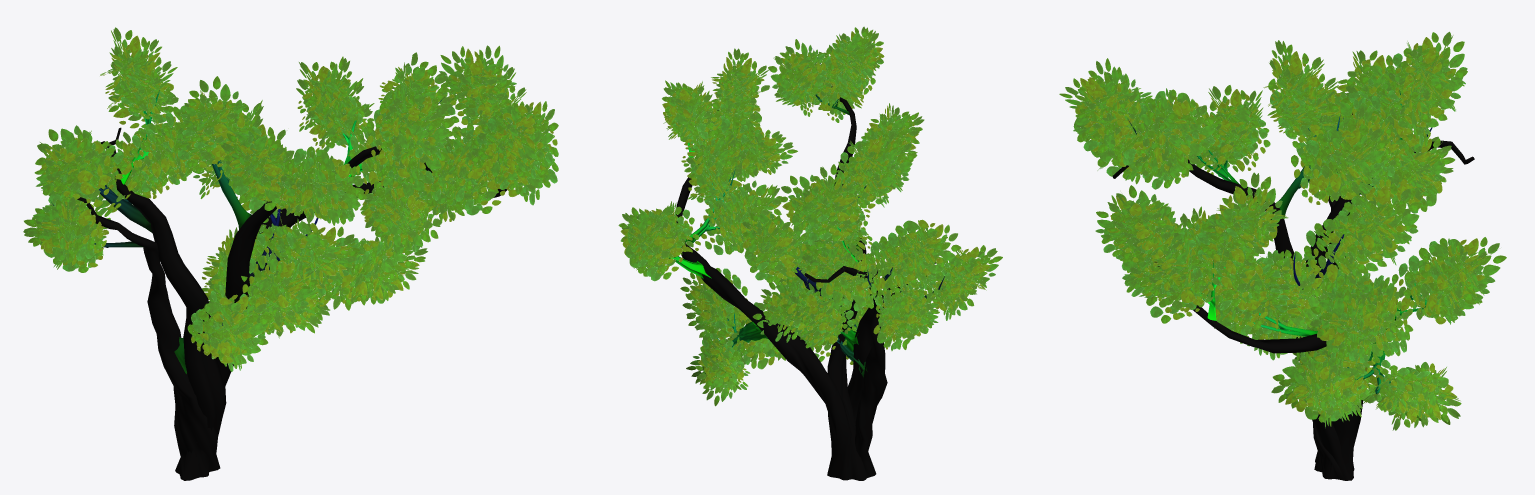
File: Tree_03.fbx
3 views of the same model, side by side, from view 1: azimuth 30°, elevation 25°; view 2: azimuth 150°, elevation 25°; view 3: azimuth 270°, elevation 25° (orthographic). The views are drawn at different scales.
Parts seen in each view (by area): view 1: Leaves_03, Tree_03; view 2: Leaves_03, Tree_03; view 3: Leaves_03, Tree_03.
Boxes of the visible parts, x1,y1,x2,y2 form: Leaves_03: [23, 27, 558, 371]; Tree_03: [51, 90, 506, 480]; Leaves_03: [618, 26, 1002, 406]; Tree_03: [669, 48, 954, 480]; Leaves_03: [1059, 31, 1506, 430]; Tree_03: [1112, 88, 1474, 480].
Bounding box in the file's own units: 1606 × 1485 × 1361.
